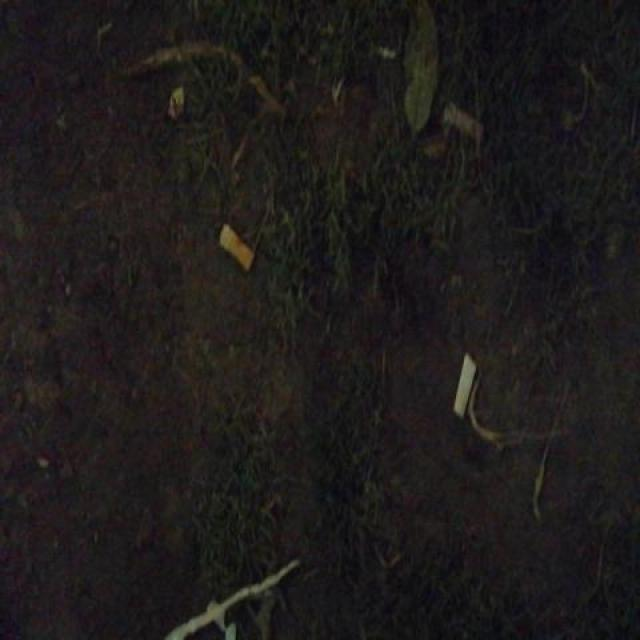non-organic waste: (215, 217, 257, 280), (452, 348, 479, 423)
